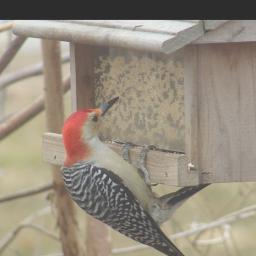Woodpecker: (54, 95, 202, 255)
